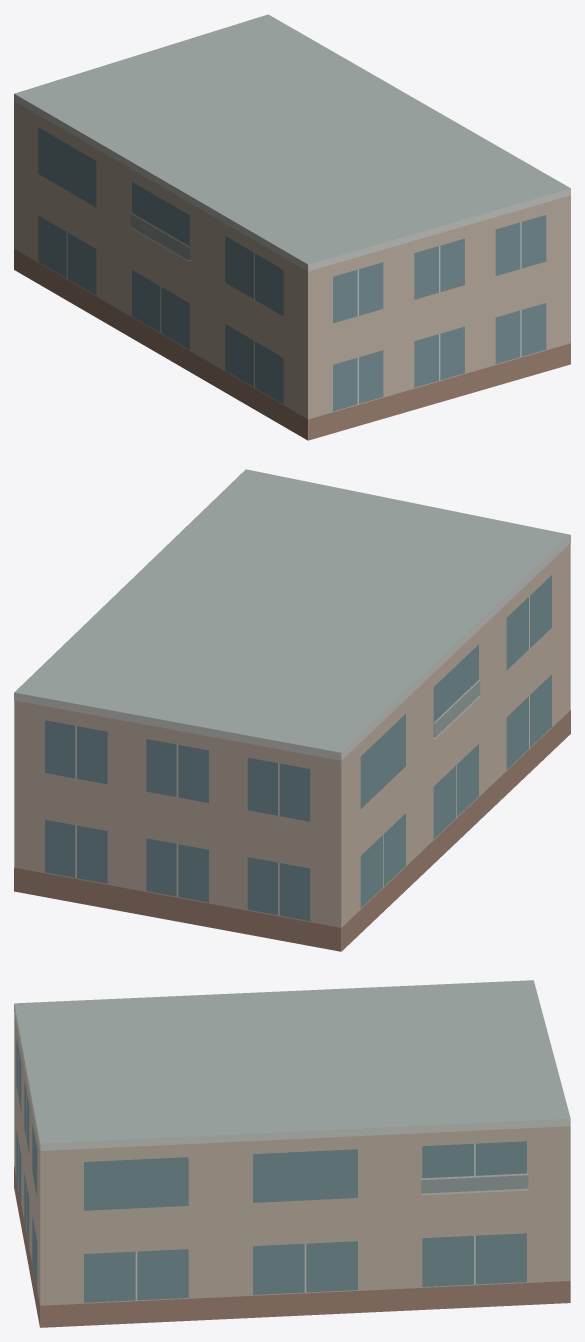
Rendered from survey-upis-32601357.glb.
3 renders of one model, top to bottom at view 1: azimuth 30°, elevation 25°; view 2: azimuth 150°, elevation 25°; view 3: azimuth 270°, elevation 25°, orthographic. The views are drawn at different scales.
Visible parts, largest first — view 1: survey-upis-32601357.tmp; view 2: survey-upis-32601357.tmp; view 3: survey-upis-32601357.tmp.
Part boxes in pixels (x1,y1,x2,y2): survey-upis-32601357.tmp: (14,14,570,440); survey-upis-32601357.tmp: (14,469,570,951); survey-upis-32601357.tmp: (14,980,570,1327).
Bounding box in the file's own units: 11.64 × 6.1 × 16.73.
